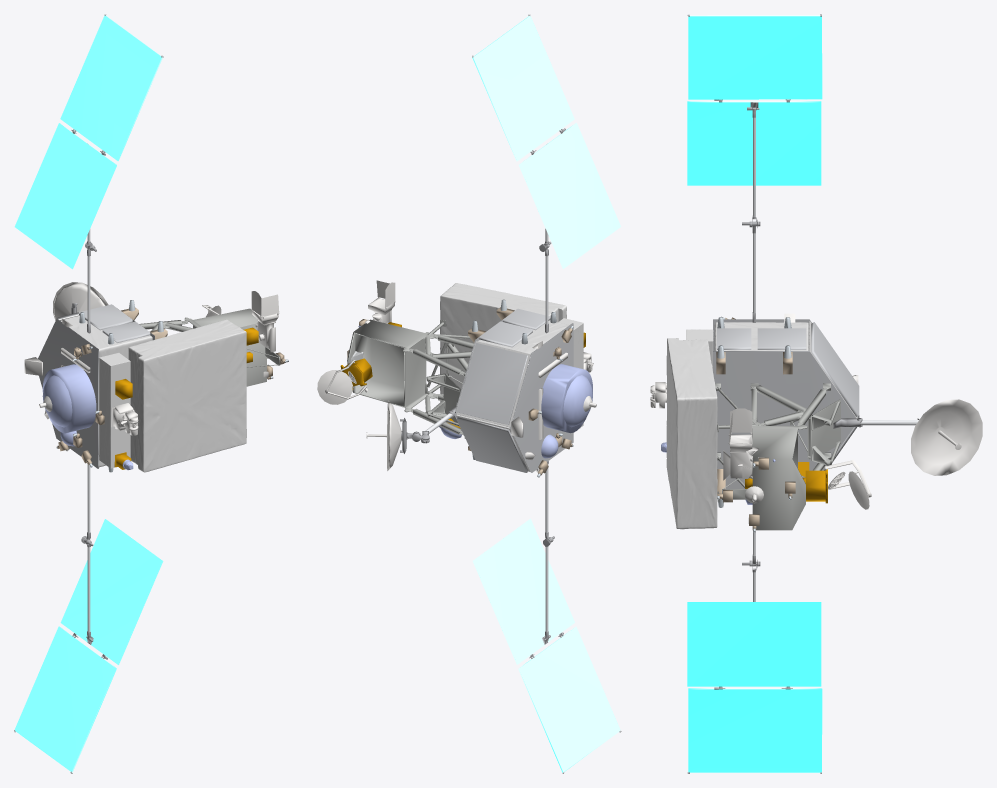
File: tropical-rainfall-measuring-mission-trmm.glb
The picture shows the model from 3 angles, left to right: view 1: azimuth 30°, elevation 25°; view 2: azimuth 150°, elevation 25°; view 3: azimuth 270°, elevation 25°; orthographic projection. The views are drawn at different scales.
Parts seen in each view (by area): view 1: TRMM [Blue_Surfaces], TRMM [Solar Panels]; view 2: TRMM [Blue_Surfaces], TRMM [Solar Panels]; view 3: TRMM [Solar Panels], TRMM [Blue_Surfaces].
Part boxes in pixels (left/top/right/bottom): TRMM [Blue_Surfaces]: left=14, top=14, right=285, bottom=773; TRMM [Solar Panels]: left=14, top=15, right=163, bottom=772; TRMM [Blue_Surfaces]: left=317, top=14, right=621, bottom=773; TRMM [Solar Panels]: left=472, top=16, right=620, bottom=772; TRMM [Solar Panels]: left=687, top=15, right=822, bottom=772; TRMM [Blue_Surfaces]: left=650, top=14, right=982, bottom=773.
Bounding box in the file's own units: 357 × 1012 × 376.
Materials: 3 (3 with a texture image).
